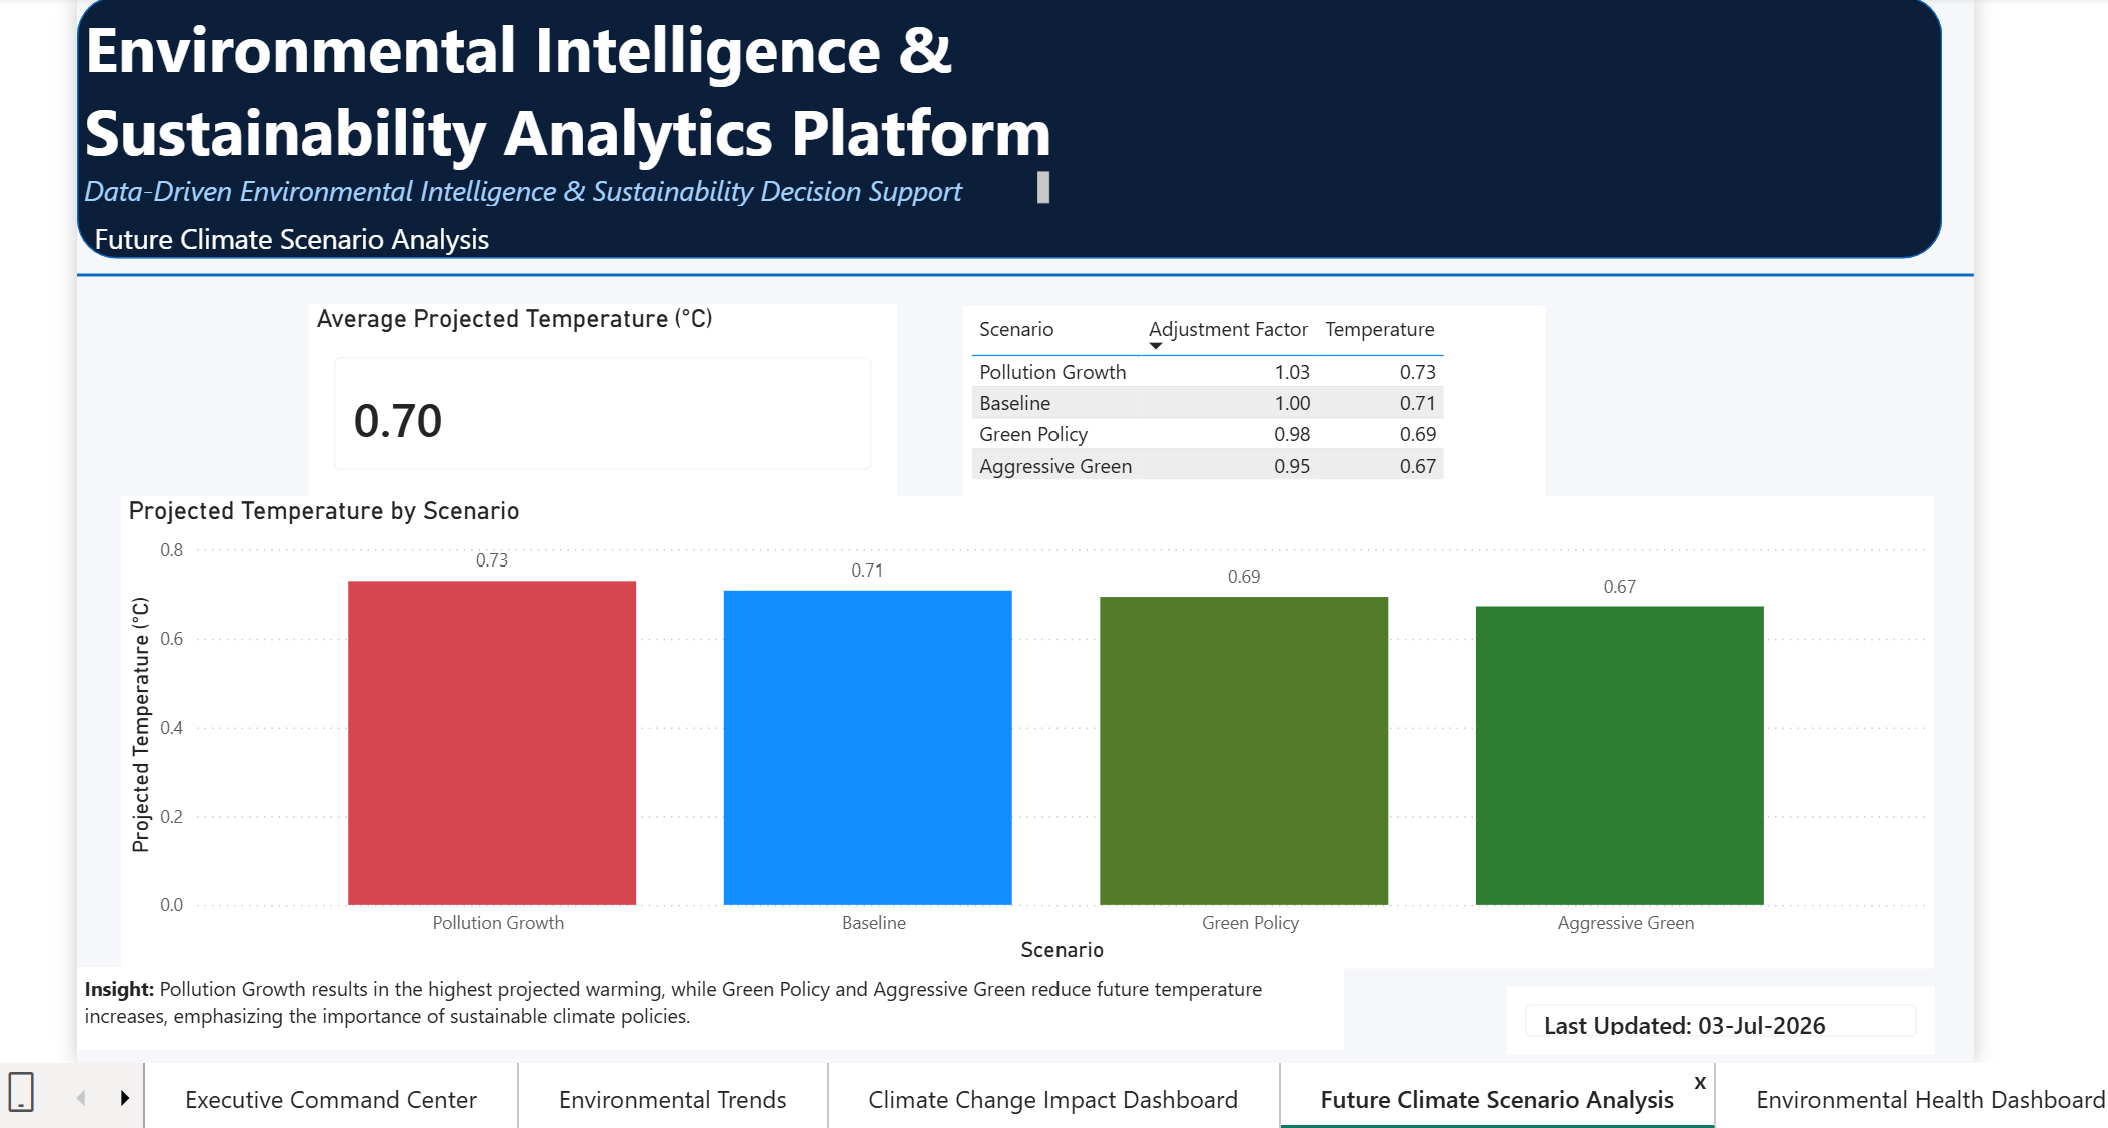

The dashboard page shown, as its layout file describes it:
{"tool":"powerbi","page":{"name":"Future Climate Scenario Analysis","canvas":[1280,720],"ordinal":3},"visuals":[{"type":"textbox","box":[0,0,829.1,68.3],"z":0},{"type":"textbox","box":[7.1,55.9,508.1,43.4],"z":1000},{"type":"cardVisual","fields":{"Data":["dashboard_master_dataset.Dashboard Date"]},"box":[940.8,663.3,339.6,56.7],"z":2000},{"type":"shape","box":[0,113.5,1280.6,149.9],"z":3000},{"type":"textbox","box":[0,655.3,854.8,55.9],"z":4000},{"type":"shape","box":[0,0,1259.1,177.3],"z":5000},{"type":"textbox","box":[0,0,840.6,125],"z":6000},{"type":"textbox","box":[7.1,145.4,508.1,43.4],"z":7000},{"type":"cardVisual","fields":{"Data":["dashboard_master_dataset.Dashboard Date"]},"box":[940.4,663.3,339.6,56.7],"z":8000},{"type":"textbox","box":[0,112.8,661.4,33.1],"z":9000},{"type":"clusteredColumnChart","title":"Projected Temperature by Scenario","fields":{"Category":["dim_scenario.scenario"],"Y":["Avg(dim_scenario.projected_temperature)"]},"box":[30.3,338.2,1223.9,318.5],"z":10000},{"type":"cardVisual","title":"Average Projected Temperature (°C)","fields":{"Data":["Avg(dim_scenario.projected_temperature)"]},"box":[156.7,208,397.1,129.7],"z":11000},{"type":"tableEx","fields":{"Values":["dim_scenario.scenario","dim_scenario.adjustment_factor","dim_scenario.projected_temperature"]},"box":[598.6,210,392.9,128.6],"z":12000}]}

Visuals, with their boxes on the page's 1280x720 design canvas (x1, y1, x2, y2). These are canvas units, not pixel positions in the 2108x1128 screenshot, which may show the page scaled, cropped or inside an application window:
textbox: 0,0,829,68
textbox: 7,56,515,99
cardVisual - dashboard_master_dataset.Dashboard Date: 941,663,1280,720
shape: 0,114,1281,263
textbox: 0,655,855,711
shape: 0,0,1259,177
textbox: 0,0,841,125
textbox: 7,145,515,189
cardVisual - dashboard_master_dataset.Dashboard Date: 940,663,1280,720
textbox: 0,113,661,146
"Projected Temperature by Scenario" clusteredColumnChart: 30,338,1254,657
"Average Projected Temperature (°C)" cardVisual: 157,208,554,338
tableEx - dim_scenario.scenario x dim_scenario.adjustment_factor: 599,210,992,339
